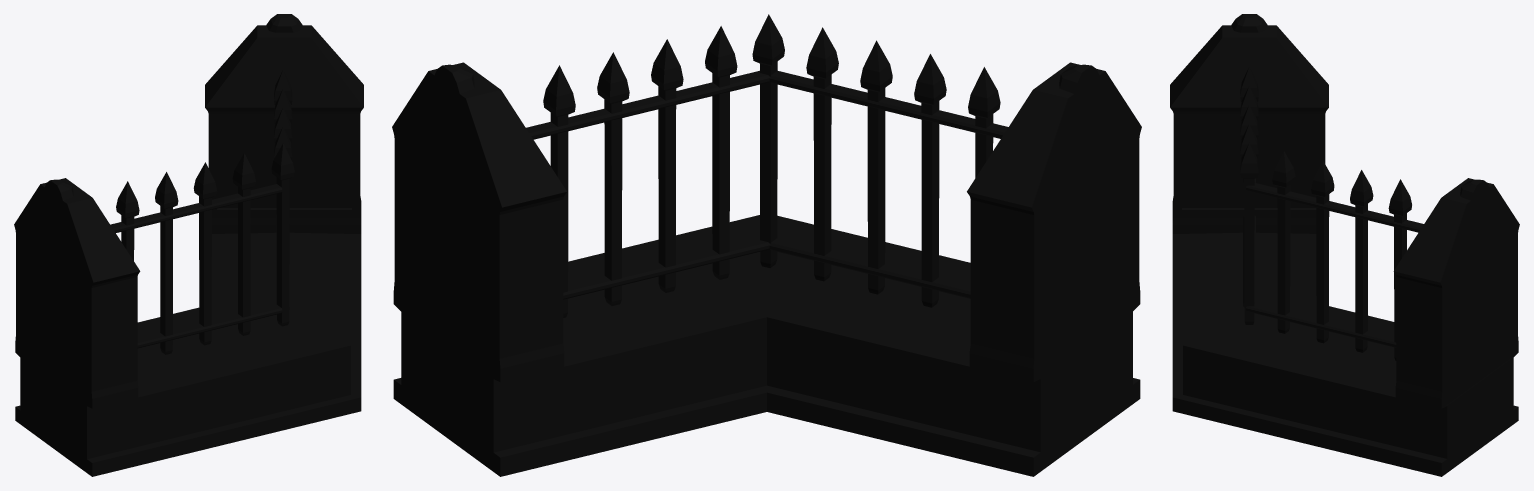
Rendered from graveyard_fence1.glb.
3 views of the same model, side by side, from view 1: azimuth 30°, elevation 25°; view 2: azimuth 150°, elevation 25°; view 3: azimuth 270°, elevation 25° (orthographic). The views are drawn at different scales.
Parts seen in each view (by area): view 1: GraveyardFenceCorner; view 2: GraveyardFenceCorner; view 3: GraveyardFenceCorner.
Boxes of the visible parts, x1=… form: GraveyardFenceCorner: x1=14, y1=14, x2=363, y2=476; GraveyardFenceCorner: x1=392, y1=14, x2=1141, y2=476; GraveyardFenceCorner: x1=1170, y1=14, x2=1519, y2=476.
Bounding box in the file's own units: 1.52 × 0.9539 × 1.14.
Materials: 2 (2 with a texture image).
